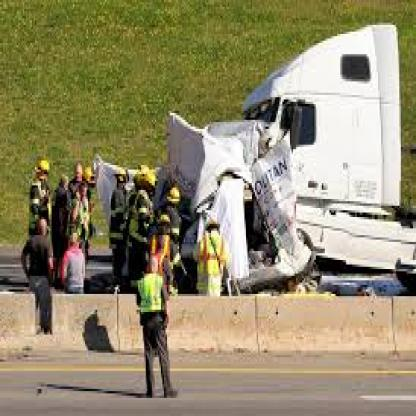accident: (97, 49, 416, 296)
